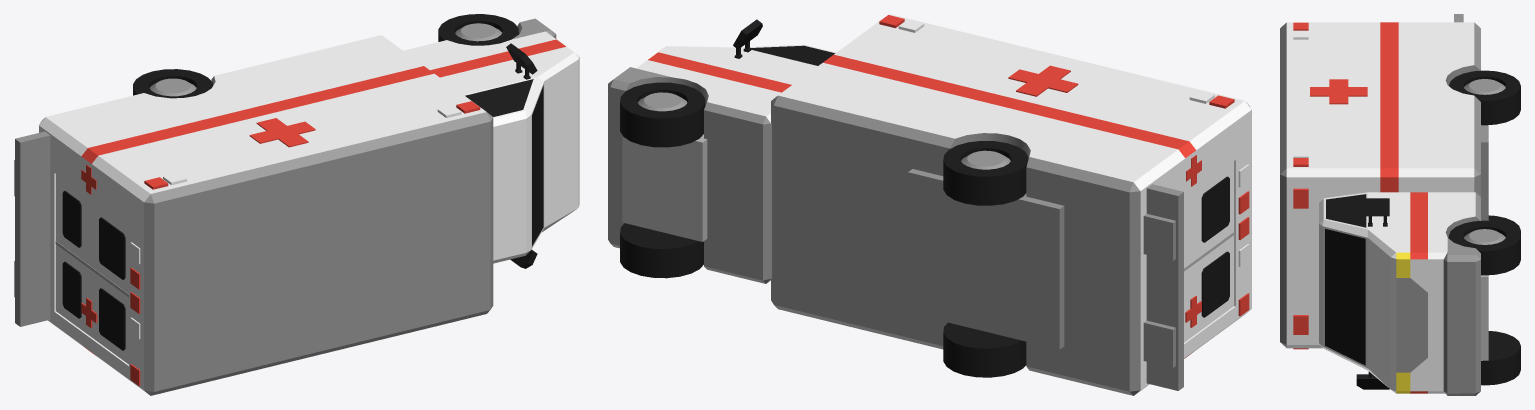
File: Ambulance_01(1).gltf
3 renders of one model, left to right at view 1: azimuth 30°, elevation 25°; view 2: azimuth 150°, elevation 25°; view 3: azimuth 270°, elevation 25°, orthographic. The views are drawn at different scales.
Visible parts, largest first — view 1: node-0; view 2: node-0; view 3: node-0.
Part boxes in pixels (x1,y1,x2,y2): node-0: (14, 14, 579, 395); node-0: (608, 14, 1251, 395); node-0: (1280, 14, 1520, 395).
Size of the model in its own units: 706 by 272 by 311.
